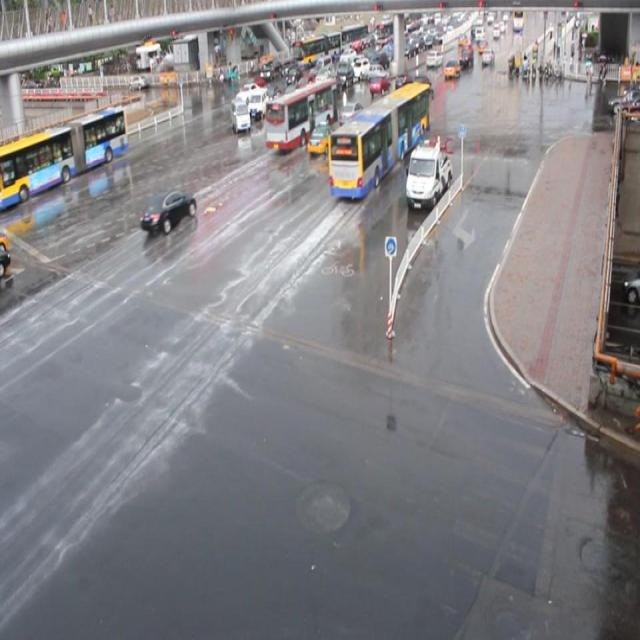bus: (403, 142, 450, 210)
car: (139, 188, 197, 234), (306, 121, 336, 153), (338, 100, 366, 125), (292, 90, 314, 116), (304, 80, 325, 106), (234, 82, 261, 102), (260, 82, 282, 106), (266, 96, 288, 119), (368, 73, 390, 96), (279, 82, 299, 106), (291, 75, 311, 97), (241, 74, 264, 92)
truck: (244, 88, 266, 120), (228, 98, 248, 132)
van: (1, 106, 129, 208), (327, 82, 430, 200), (264, 78, 337, 150)
